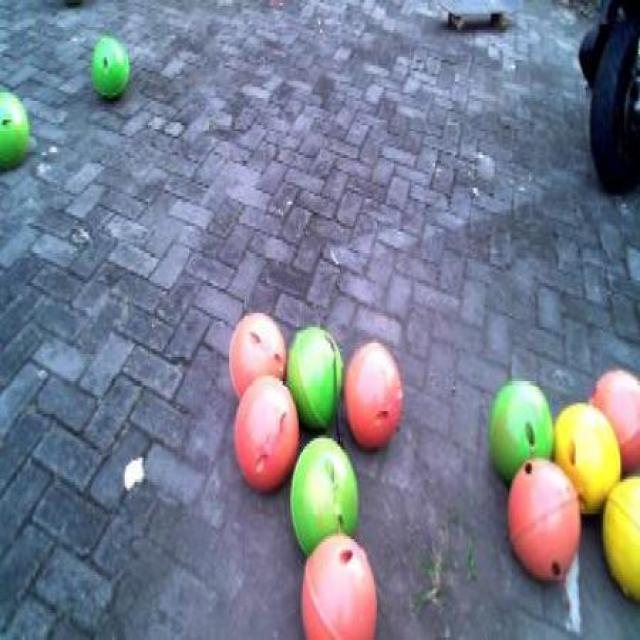buoy: (504, 450, 580, 595), (296, 526, 384, 634), (285, 434, 361, 557), (548, 392, 622, 515), (484, 366, 556, 486), (231, 369, 298, 494), (339, 332, 406, 453), (282, 322, 349, 432), (586, 363, 639, 485), (226, 305, 285, 406), (596, 469, 638, 603), (88, 27, 132, 110), (0, 85, 33, 177)
